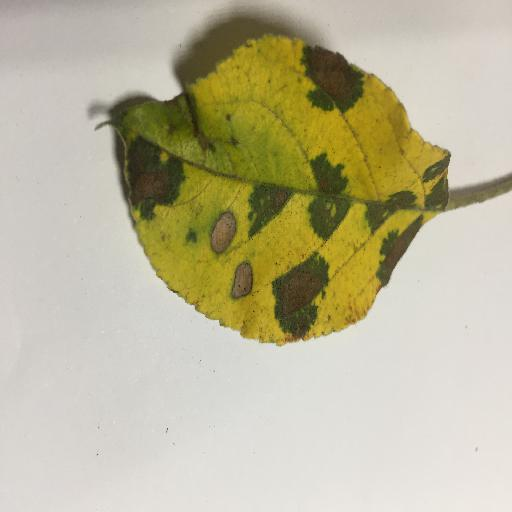Brown_Spot: (307, 44, 358, 99), (130, 154, 170, 201), (277, 268, 317, 315), (384, 228, 413, 267), (233, 260, 252, 297), (214, 212, 227, 253), (275, 193, 286, 211), (319, 178, 332, 192)
